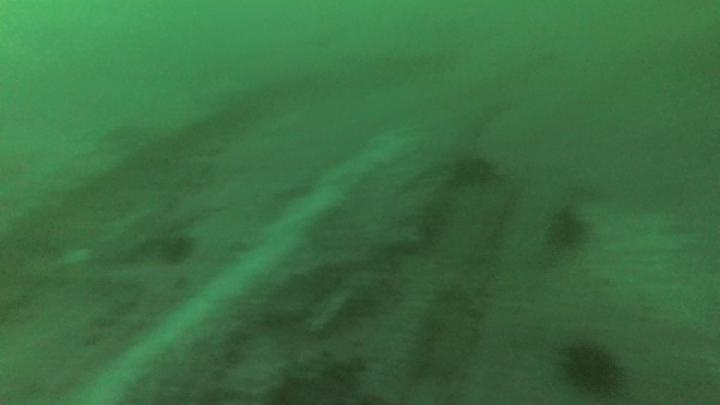echinus: (558, 336, 627, 399), (544, 205, 590, 251), (447, 151, 499, 189), (156, 231, 197, 267)
